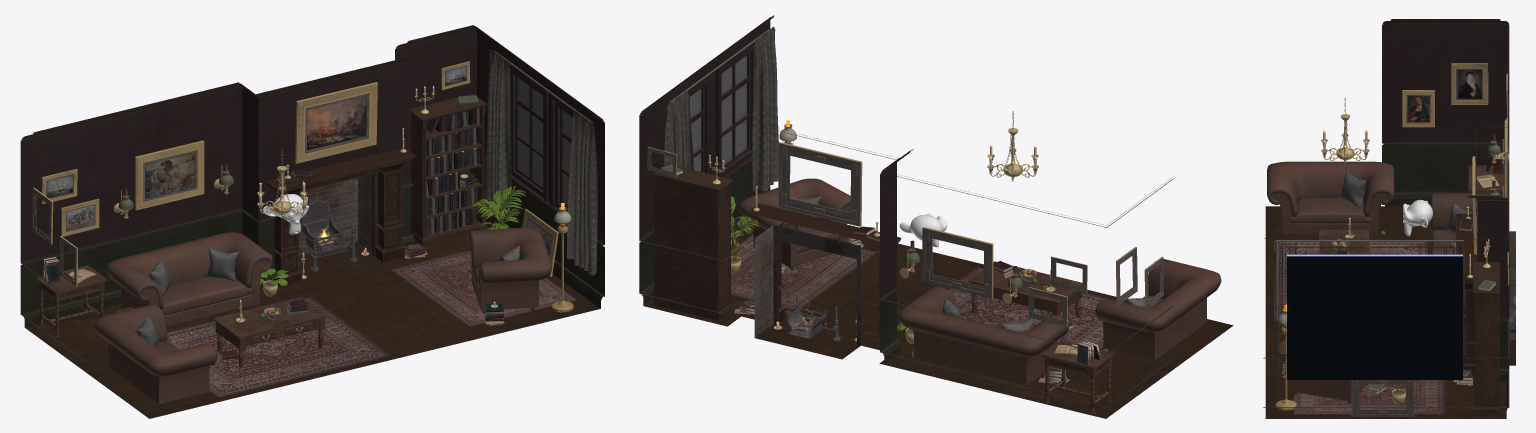
3 views of the same model, side by side, from view 1: azimuth 30°, elevation 25°; view 2: azimuth 150°, elevation 25°; view 3: azimuth 270°, elevation 25° (orthographic). The views are drawn at different scales.
Parts seen in each view (by area): view 1: Wall_Large, Floor, Wall_Fireplace, Fireplace, Leather_Sofa_Large, Rug_Large, Leather_Sofa, Wall_Window, Leather_Armchair, Painting_1, Victorian_Bookcase_Tall, Window_1 (+26 smaller); view 2: Floor, Victorian_Bookcase_Tall, Leather_Sofa_Large, Leather_Sofa, Fireplace, Wall_Window, Window_2, Curtain_Right, Rug_Small, Rug_Large, Leather_Armchair, Wall_Corner_1 (+14 smaller); view 3: Plane.002, Wall_Small, Leather_Sofa, Floor, Victorian_Bookcase_Tall, Wall_Corner_2, Rug_Small, Fireplace, Rug_Large, Leather_Sofa_Large, Painting_5, Leather_Armchair (+19 smaller).
Part boxes in pixels (x1,y1,x2,y2): Wall_Large: (20, 82, 242, 327); Floor: (25, 226, 600, 418); Wall_Fireplace: (254, 52, 427, 286); Fireplace: (265, 147, 415, 287); Leather_Sofa_Large: (106, 232, 272, 325); Rug_Large: (167, 297, 389, 397); Leather_Sofa: (94, 304, 217, 405); Wall_Window: (473, 25, 604, 308); Leather_Armchair: (468, 227, 552, 313); Painting_1: (295, 82, 377, 163); Victorian_Bookcase_Tall: (411, 94, 487, 246); Window_1: (508, 60, 549, 205); Floor: (644, 226, 1233, 418); Victorian_Bookcase_Tall: (653, 163, 733, 320); Leather_Sofa_Large: (898, 286, 1069, 387); Leather_Sofa: (1095, 259, 1221, 362); Fireplace: (746, 203, 901, 345); Wall_Window: (639, 15, 774, 305); Window_2: (716, 37, 757, 178); Curtain_Right: (752, 26, 778, 191); Rug_Small: (731, 234, 875, 310); Rug_Large: (898, 267, 1127, 349); Leather_Armchair: (739, 178, 850, 270); Wall_Corner_1: (880, 149, 913, 364); Plane.002: (1287, 256, 1462, 379); Wall_Small: (1382, 19, 1509, 206); Leather_Sofa: (1267, 161, 1394, 237); Floor: (1265, 206, 1515, 418); Victorian_Bookcase_Tall: (1473, 262, 1499, 415); Wall_Corner_2: (1466, 195, 1509, 382); Rug_Small: (1294, 380, 1444, 414); Fireplace: (1456, 213, 1515, 374); Rug_Large: (1274, 240, 1427, 321); Leather_Sofa_Large: (1431, 193, 1487, 284); Painting_5: (1451, 63, 1488, 104); Leather_Armchair: (1275, 337, 1367, 403).
Size of the model in its own units: 13.71 by 5.58 by 6.85.
16 materials, 12 textured.
